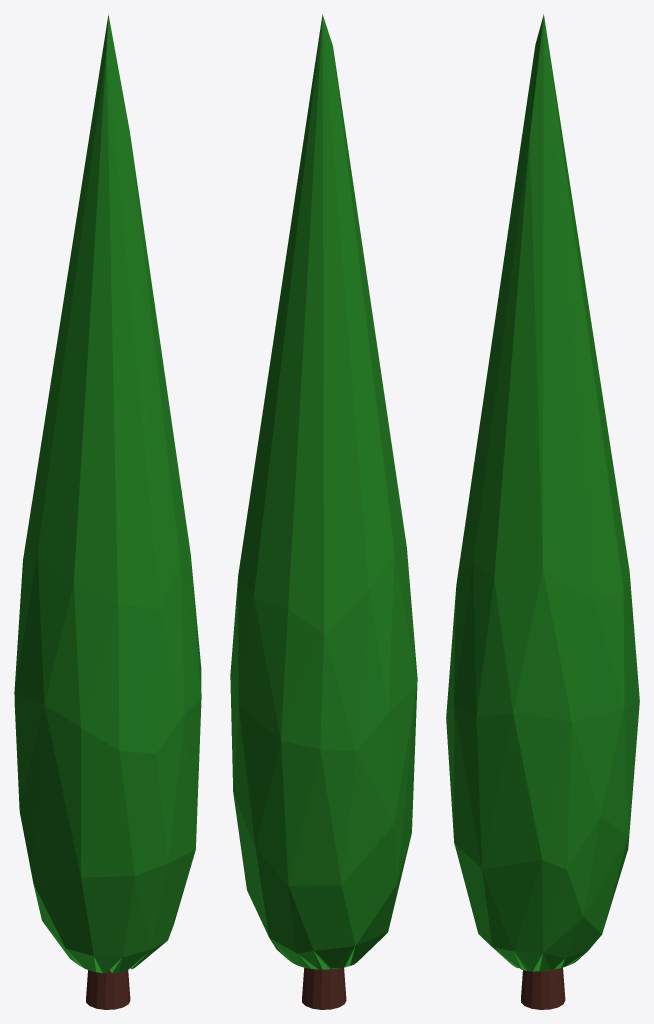
Rendered from tree0.obj.
3 views of the same model, side by side, from view 1: azimuth 30°, elevation 25°; view 2: azimuth 150°, elevation 25°; view 3: azimuth 270°, elevation 25° (orthographic).
Visible parts, largest first — view 1: Cone, Cylinder; view 2: Cone, Cylinder; view 3: Cone, Cylinder.
Boxes of the visible parts, left/top/right/bottom form: Cone: left=14, top=14, right=201, bottom=973; Cylinder: left=86, top=970, right=130, bottom=1009; Cone: left=230, top=14, right=417, bottom=969; Cylinder: left=302, top=967, right=346, bottom=1009; Cone: left=446, top=14, right=639, bottom=971; Cylinder: left=521, top=967, right=565, bottom=1009.
Size of the model in its own units: 0.9748 by 5.8 by 1.03.
